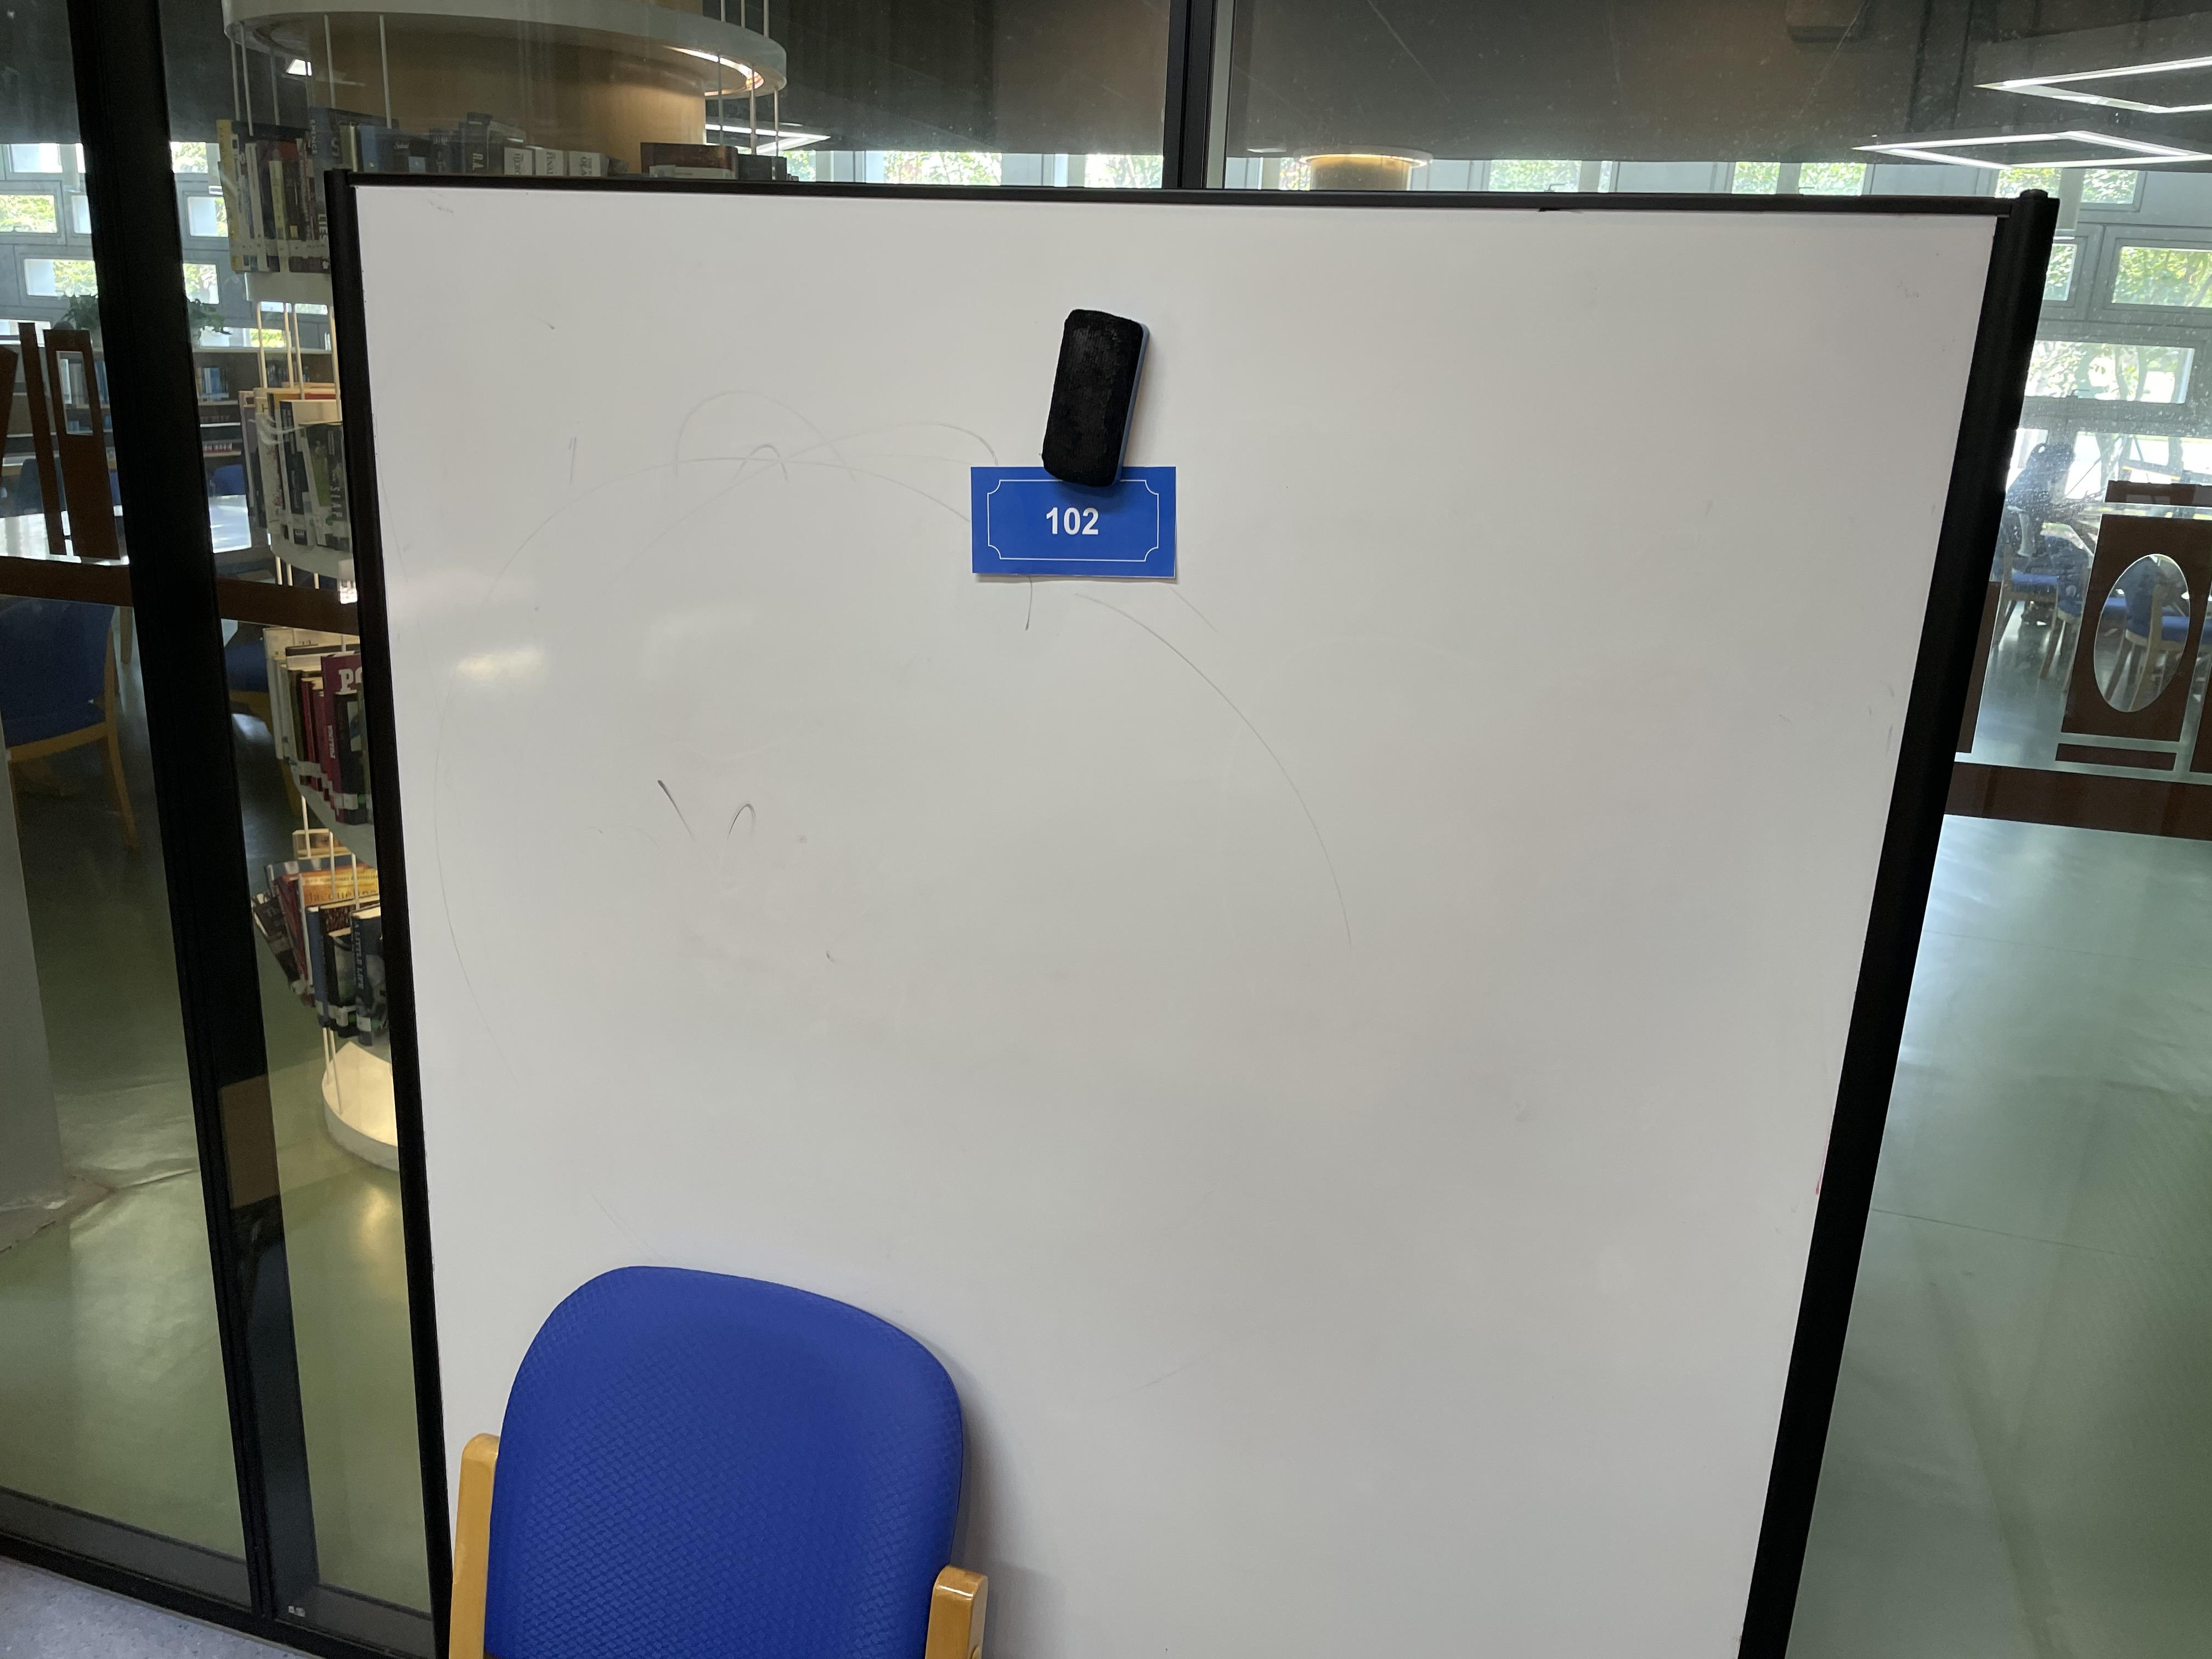Card: (944, 423, 1197, 601)
